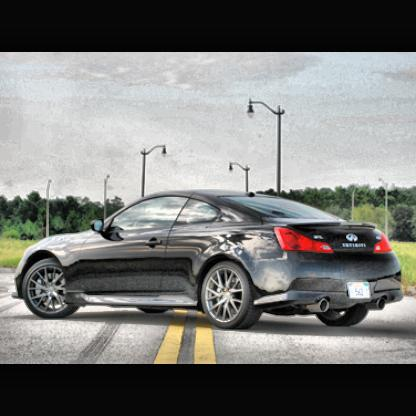Infiniti G Coupe IPL 2012: (12, 188, 411, 336)
